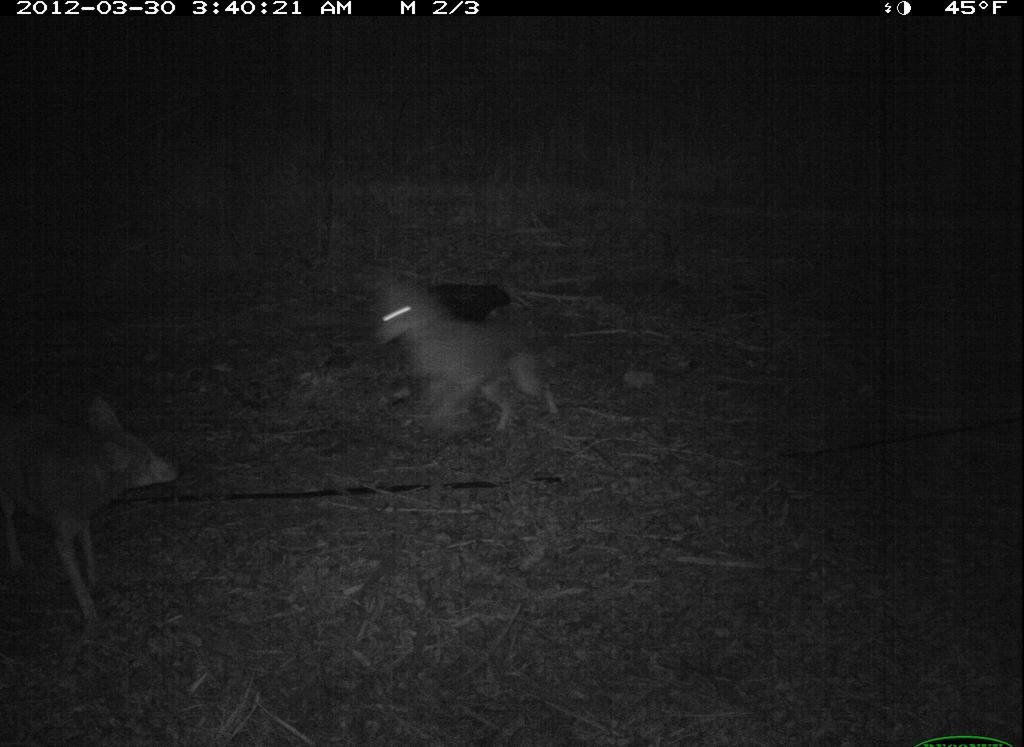coyote: (1, 373, 194, 658), (370, 274, 578, 463)
